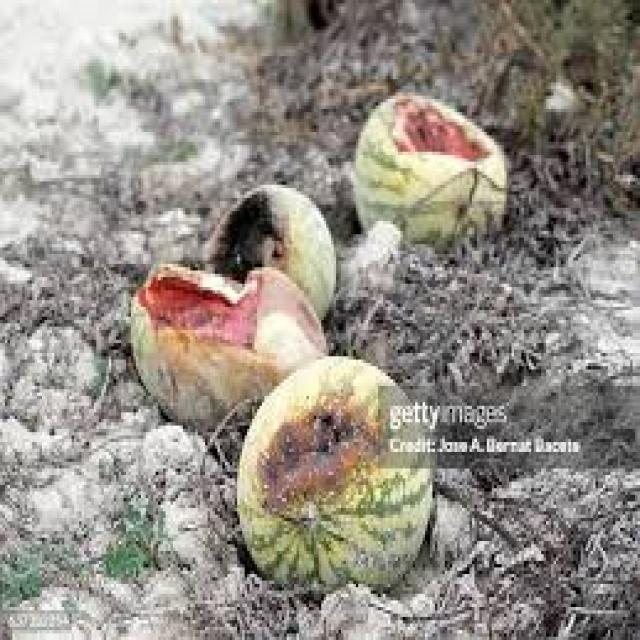Watermelon: (241, 369, 418, 594), (138, 263, 318, 426), (355, 75, 511, 245), (210, 199, 341, 293)
